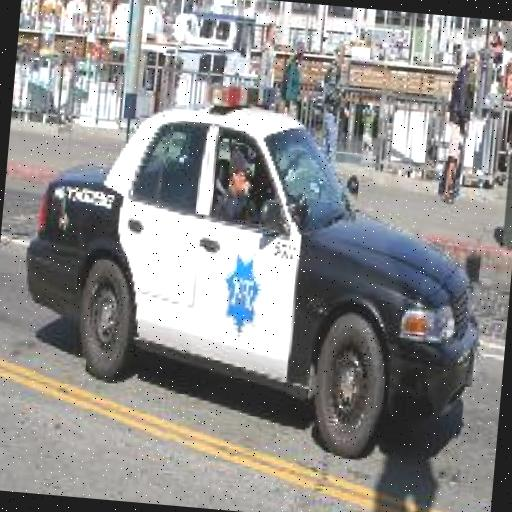Ambulance: (14, 82, 488, 460)
